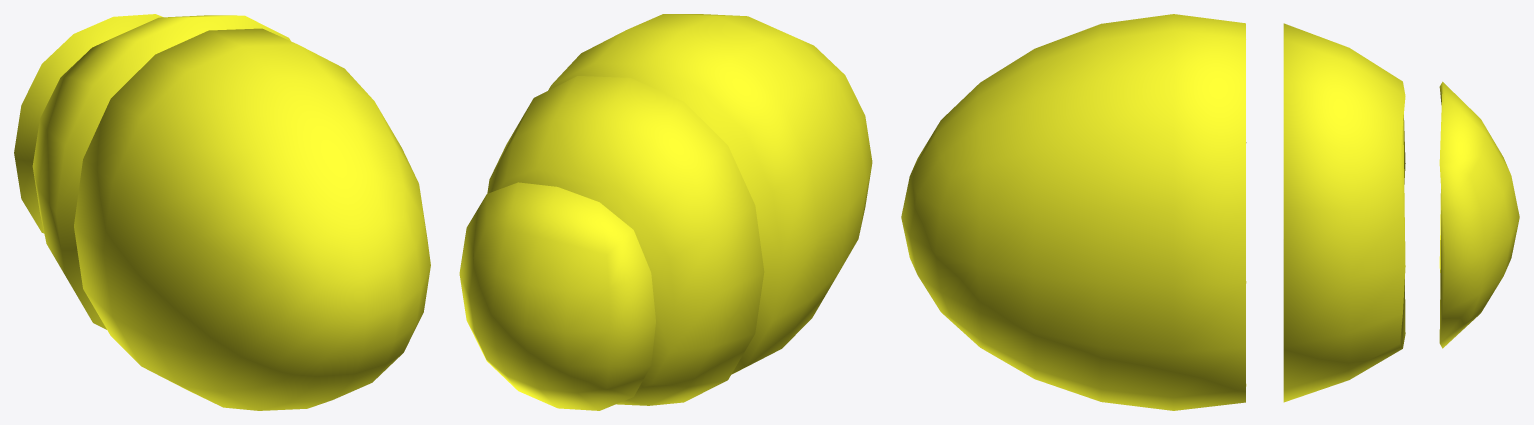
Rendered from kentang 2.fbx.
3 renders of one model, left to right at view 1: azimuth 30°, elevation 25°; view 2: azimuth 150°, elevation 25°; view 3: azimuth 270°, elevation 25°, orthographic. The views are drawn at different scales.
Visible parts, largest first — view 1: kentang.003, kentang.005, kentang.004; view 2: kentang.005, kentang.003, kentang.004; view 3: kentang.003, kentang.005, kentang.004.
Boxes of the visible parts, x1,y1,x2,y2 form: kentang.003: [74, 28, 430, 410]; kentang.005: [32, 15, 290, 329]; kentang.004: [14, 14, 163, 233]; kentang.005: [487, 76, 764, 405]; kentang.003: [548, 14, 872, 374]; kentang.004: [459, 182, 655, 410]; kentang.003: [901, 14, 1246, 410]; kentang.005: [1283, 23, 1405, 402]; kentang.004: [1439, 81, 1519, 348].
Size of the model in its own units: 235 by 274 by 422.
